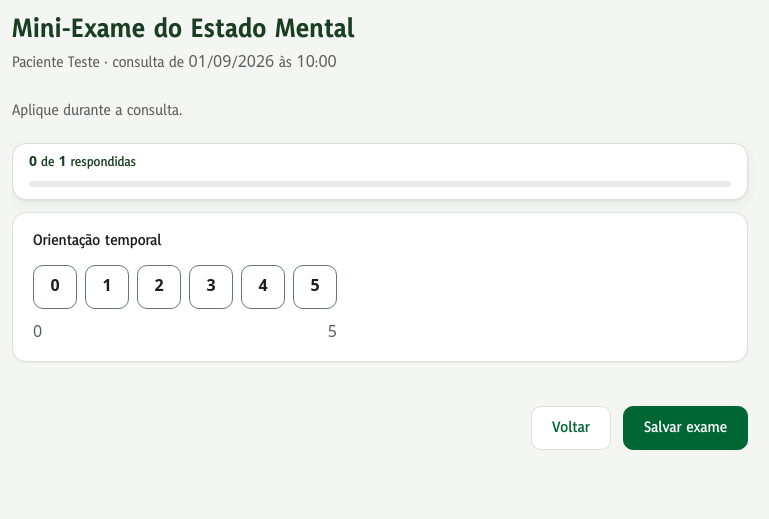
it: MiniExame › salvar pelo teclado leva o foco pro resultado do exame
Click the radio button labelled "4" at [263, 287], box [241,265,285,309]
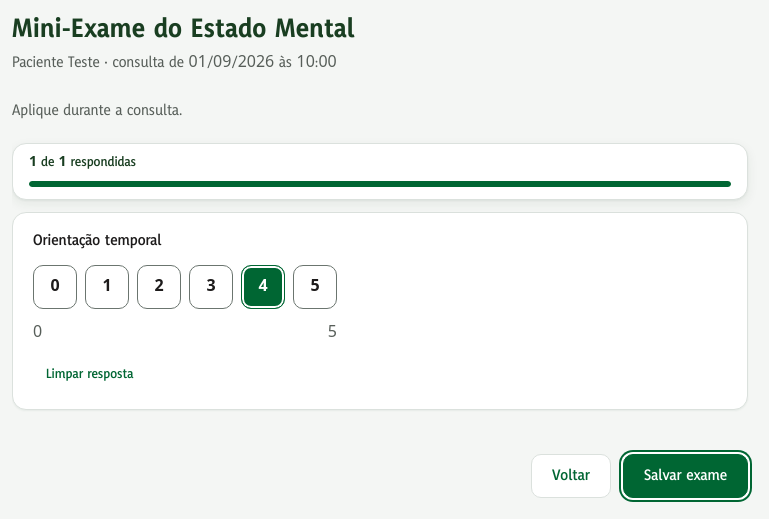
Press Enter
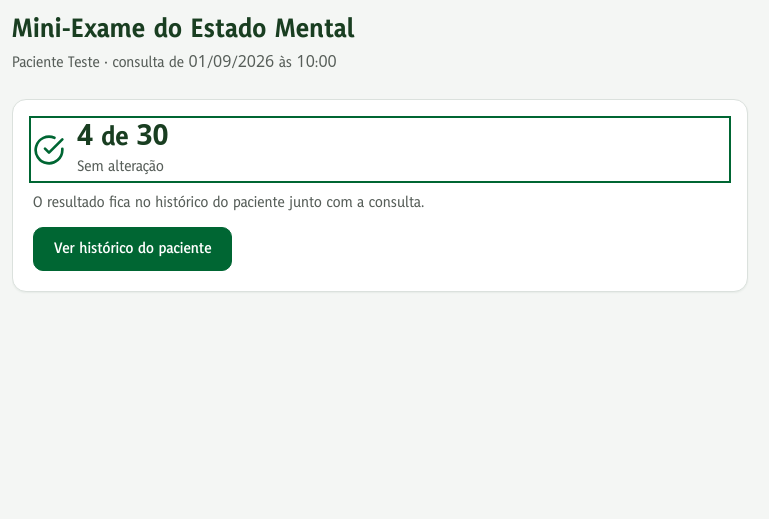
Expected: the text "4 de 30" is shown, [77,120,169,155]
Expected: the message shows "4 de 30", [33,120,727,179]
Expected: the message shows "Sem alteração", [77,156,164,177]
